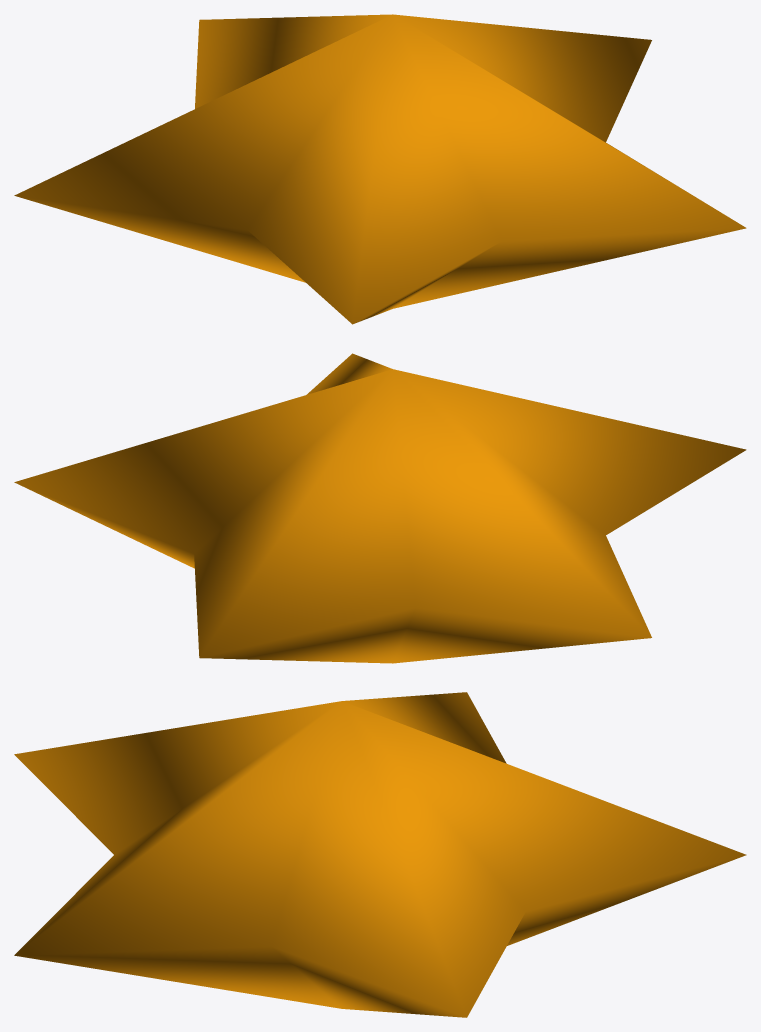
The model's file is star.fbx.
3 renders of one model, top to bottom at view 1: azimuth 30°, elevation 25°; view 2: azimuth 150°, elevation 25°; view 3: azimuth 270°, elevation 25°, orthographic. The views are drawn at different scales.
Parts seen in each view (by area): view 1: Cylinder; view 2: Cylinder; view 3: Cylinder.
Part boxes in pixels (<box>): Cylinder: <box>14,14,746,324</box>; Cylinder: <box>14,353,746,663</box>; Cylinder: <box>14,692,746,1017</box>.
Size of the model in its own units: 1.9 by 0.8382 by 1.81.
